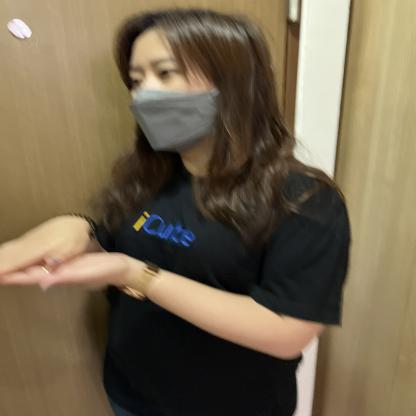Love: (0, 209, 192, 320)
